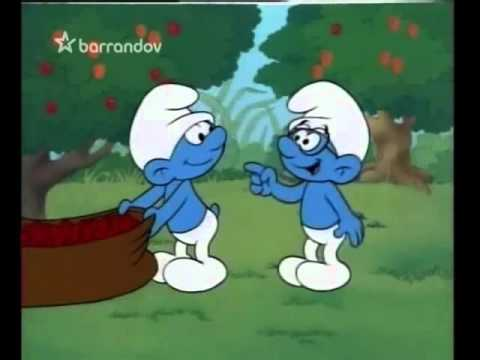smurf: (241, 80, 369, 295), (118, 84, 230, 294)
